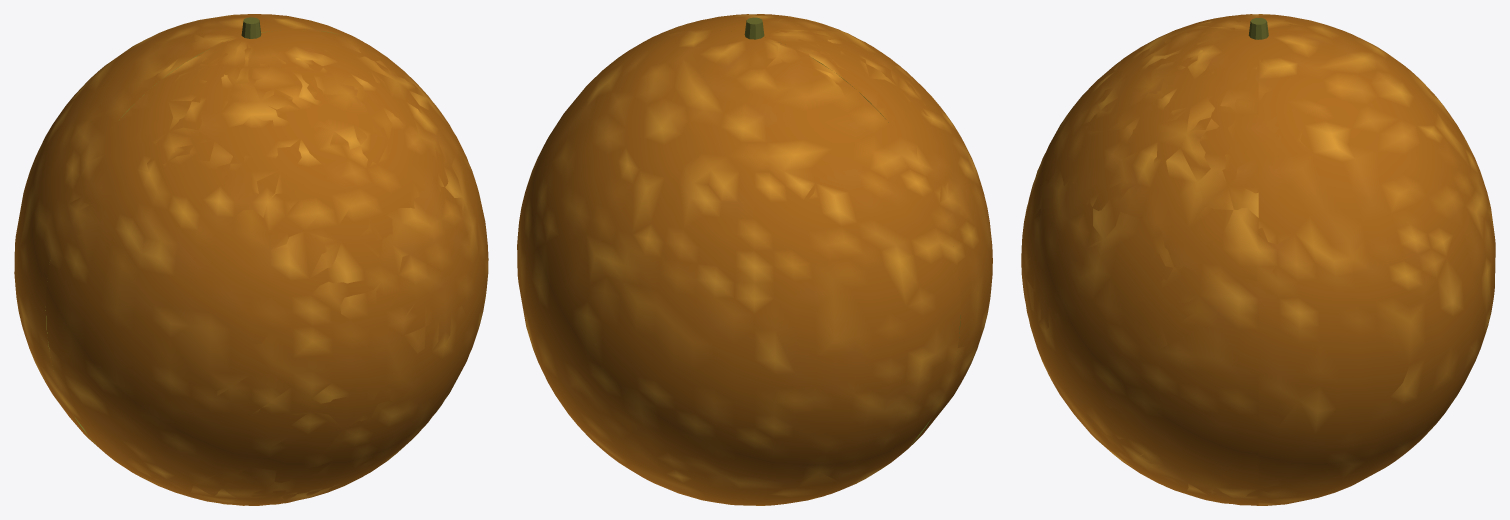
The model's file is melon.glb.
3 renders of one model, left to right at view 1: azimuth 30°, elevation 25°; view 2: azimuth 150°, elevation 25°; view 3: azimuth 270°, elevation 25°, orthographic.
Visible parts, largest first — view 1: entier_peau, moitie_B_peau, moitie_A_peau; view 2: entier_peau, moitie_A_peau, moitie_B_peau; view 3: entier_peau, moitie_B_peau, moitie_A_peau.
Boxes of the visible parts, <box> form: entier_peau: <box>14,14,488,505</box>; moitie_B_peau: <box>45,29,488,505</box>; moitie_A_peau: <box>14,14,375,450</box>; entier_peau: <box>517,14,992,505</box>; moitie_A_peau: <box>517,29,960,505</box>; moitie_B_peau: <box>642,14,992,454</box>; entier_peau: <box>1023,14,1495,505</box>; moitie_B_peau: <box>1021,14,1258,505</box>; moitie_A_peau: <box>1258,14,1495,505</box>.
Bounding box in the file's own units: 1.84 × 1.98 × 1.84.
